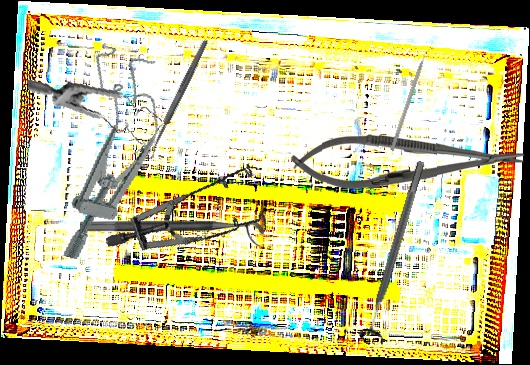Chopper: (389, 44, 436, 154)
Fixation Ring: (355, 157, 436, 346), (80, 220, 264, 247)
Needle Holder: (290, 130, 526, 193)
Speculum: (46, 44, 176, 271), (103, 131, 281, 286), (26, 57, 168, 172)
Surgical Spoon: (144, 37, 210, 162)
